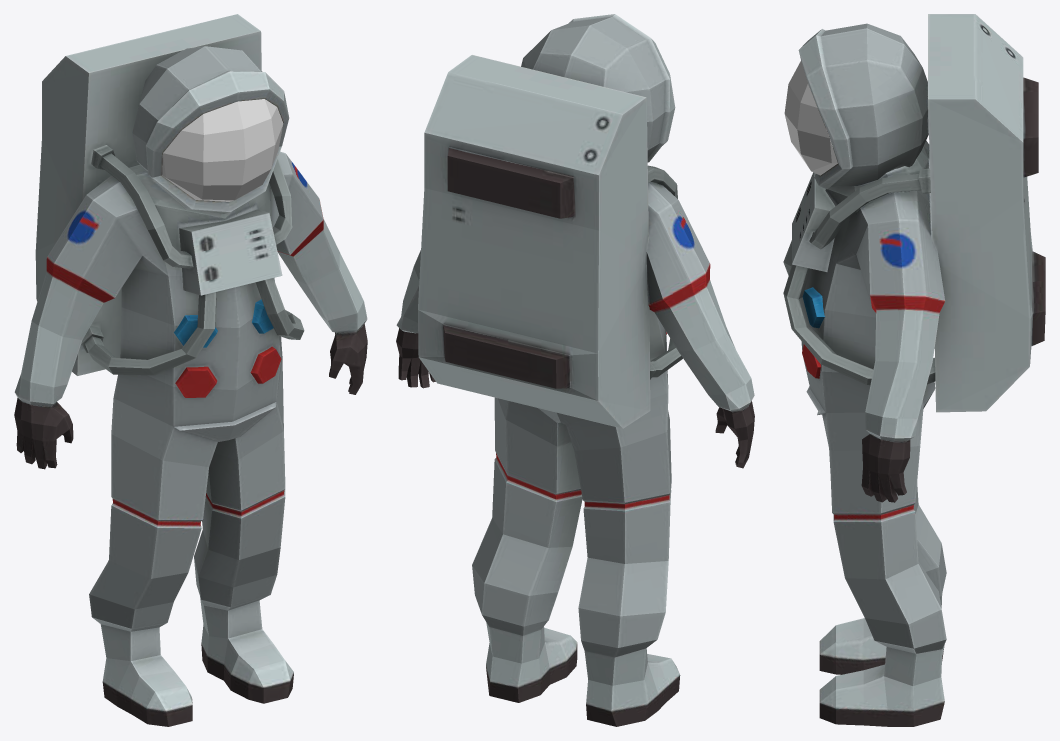
File: Astronaut.glb
3 renders of one model, left to right at view 1: azimuth 30°, elevation 25°; view 2: azimuth 150°, elevation 25°; view 3: azimuth 270°, elevation 25°, orthographic.
Visible parts, largest first — view 1: body, mask; view 2: body; view 3: body, mask.
Boxes of the visible parts, x1,y1,x2,y2 form: body: (14,14,367,726); mask: (162,99,283,201); body: (396,14,754,726); body: (783,14,1045,726); mask: (784,61,837,175).
Bounding box in the file's own units: 2.24 × 4.02 × 1.45.
2 materials, 1 textured.
